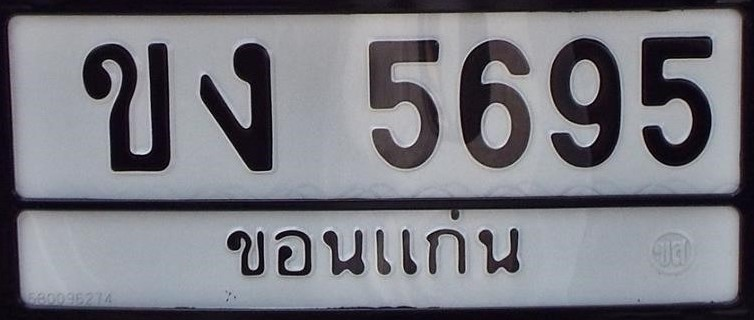txt02: (79, 39, 176, 177)
txt05: (195, 37, 279, 175)
